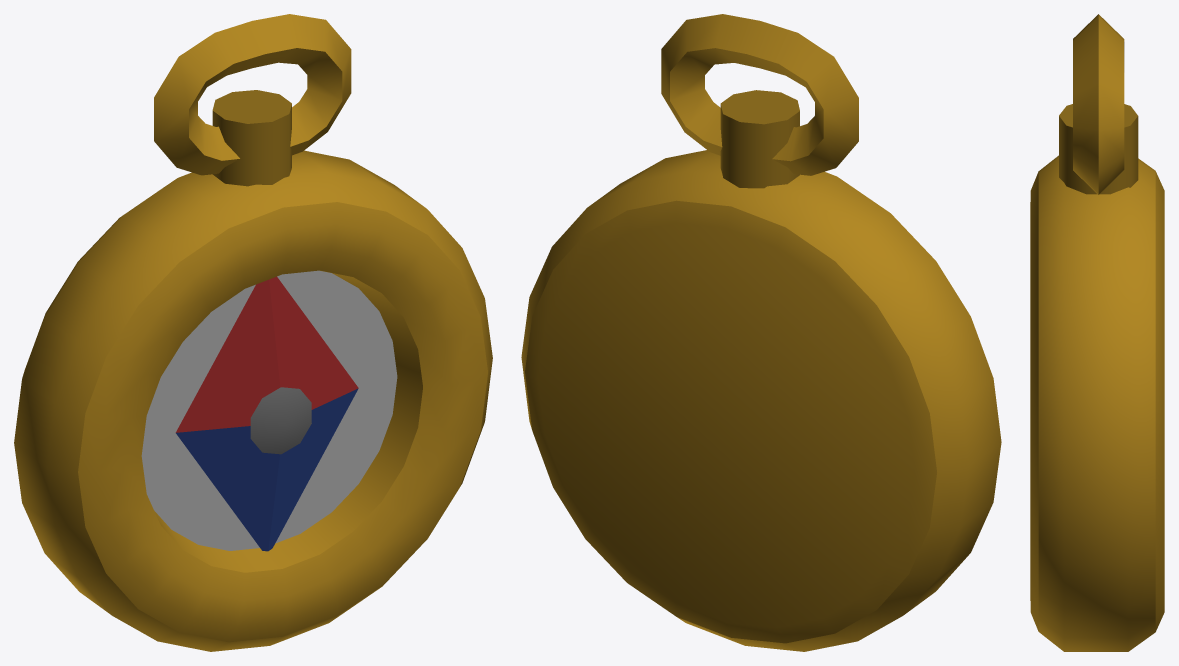
File: compass_01.fbx
3 renders of one model, left to right at view 1: azimuth 30°, elevation 25°; view 2: azimuth 150°, elevation 25°; view 3: azimuth 270°, elevation 25°, orthographic. The views are drawn at different scales.
Visible parts, largest first — view 1: compass_01; view 2: compass_01; view 3: compass_01.
Boxes of the visible parts, box(x1,y1,x2,y2) form: compass_01: box(14, 14, 492, 651); compass_01: box(521, 14, 1001, 651); compass_01: box(1030, 14, 1164, 651).
Size of the model in its own units: 259 by 339 by 69.04.
